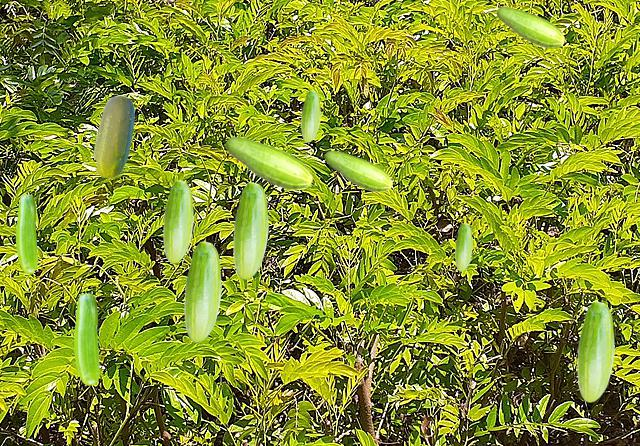cucumber: (225, 136, 312, 189), (184, 241, 220, 341), (577, 301, 613, 401), (93, 95, 133, 177), (233, 182, 267, 278), (324, 150, 392, 191), (496, 6, 564, 47), (163, 180, 192, 262), (74, 293, 98, 384), (16, 194, 36, 272), (301, 90, 319, 141), (455, 223, 471, 270)
